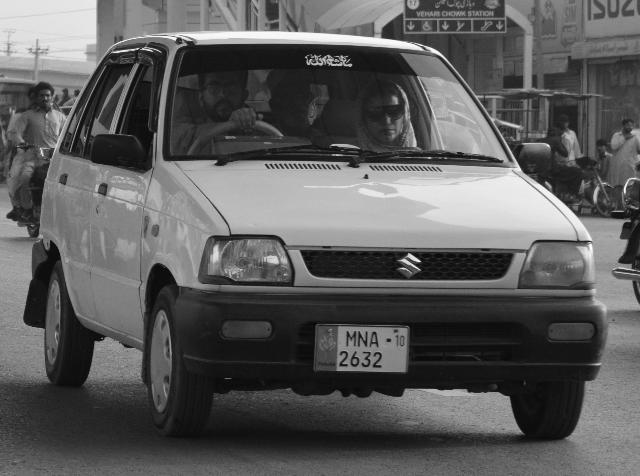Number: (338, 331, 384, 370)
